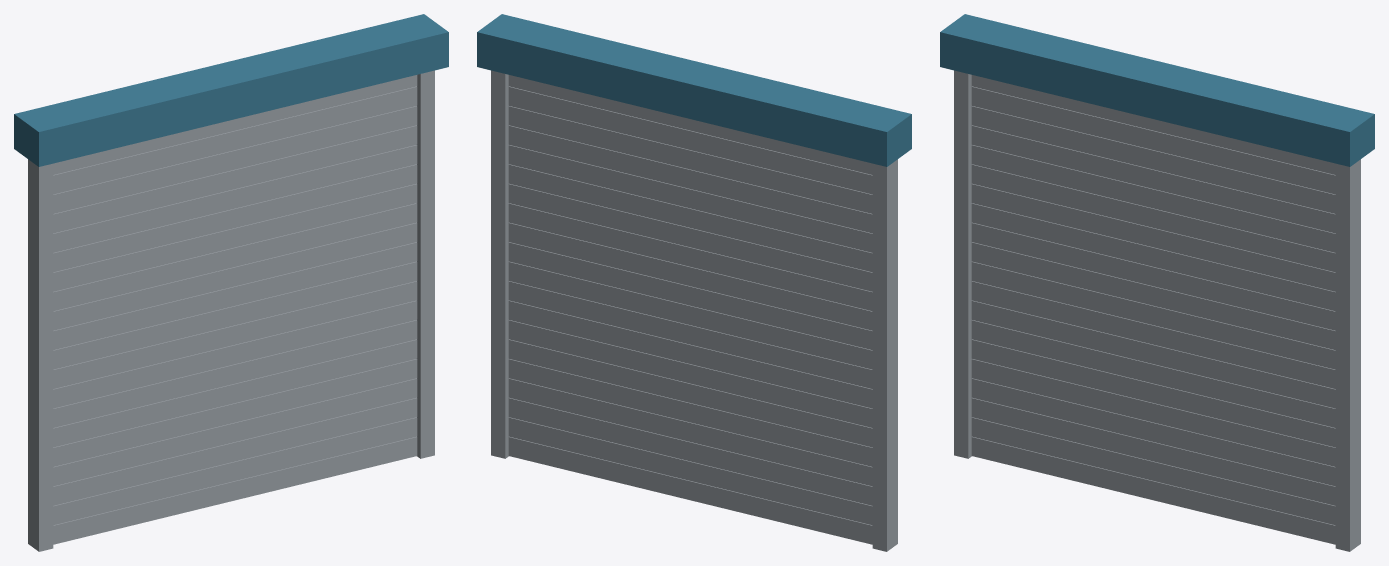
3 renders of one model, left to right at view 1: azimuth 30°, elevation 25°; view 2: azimuth 150°, elevation 25°; view 3: azimuth 330°, elevation 25°, orthographic.
Parts seen in each view (by area): view 1: housing, post0, slat14, slat2, slat9, slat13, slat3, slat1, slat10, slat15, slat16, slat18 (+11 smaller); view 2: housing, post0, slat14, slat2, slat9, slat13, slat3, slat1, slat10, slat15, slat16, slat18 (+11 smaller); view 3: housing, post1, slat14, slat2, slat9, slat13, slat3, slat1, slat10, slat15, slat16, slat18 (+11 smaller).
Part boxes in pixels (x1=…): housing: x1=14, y1=14, x2=448, y2=166; post0: x1=28, y1=159, x2=53, y2=551; slat14: x1=53, y1=164, x2=417, y2=272; slat2: x1=53, y1=397, x2=417, y2=505; slat9: x1=53, y1=261, x2=417, y2=369; slat13: x1=53, y1=183, x2=417, y2=291; slat3: x1=53, y1=378, x2=417, y2=486; slat1: x1=53, y1=417, x2=417, y2=525; slat10: x1=53, y1=242, x2=417, y2=349; slat15: x1=53, y1=145, x2=417, y2=252; slat16: x1=53, y1=125, x2=417, y2=233; slat18: x1=53, y1=86, x2=417, y2=194; housing: x1=477, y1=14, x2=911, y2=166; post0: x1=872, y1=159, x2=897, y2=551; slat14: x1=508, y1=164, x2=872, y2=272; slat2: x1=508, y1=397, x2=872, y2=505; slat9: x1=508, y1=261, x2=872, y2=369; slat13: x1=508, y1=183, x2=872, y2=291; slat3: x1=508, y1=378, x2=872, y2=486; slat1: x1=508, y1=417, x2=872, y2=525; slat10: x1=508, y1=242, x2=872, y2=349; slat15: x1=508, y1=145, x2=872, y2=252; slat16: x1=508, y1=125, x2=872, y2=233; slat18: x1=508, y1=86, x2=872, y2=194; housing: x1=940, y1=14, x2=1374, y2=166; post1: x1=1335, y1=159, x2=1360, y2=551; slat14: x1=971, y1=164, x2=1335, y2=272; slat2: x1=971, y1=397, x2=1335, y2=505; slat9: x1=971, y1=261, x2=1335, y2=369; slat13: x1=971, y1=183, x2=1335, y2=291; slat3: x1=971, y1=378, x2=1335, y2=486; slat1: x1=971, y1=417, x2=1335, y2=525; slat10: x1=971, y1=242, x2=1335, y2=349; slat15: x1=971, y1=145, x2=1335, y2=252; slat16: x1=971, y1=125, x2=1335, y2=233; slat18: x1=971, y1=86, x2=1335, y2=194.
Size of the model in its own units: 4.3 by 4.27 by 0.45.
